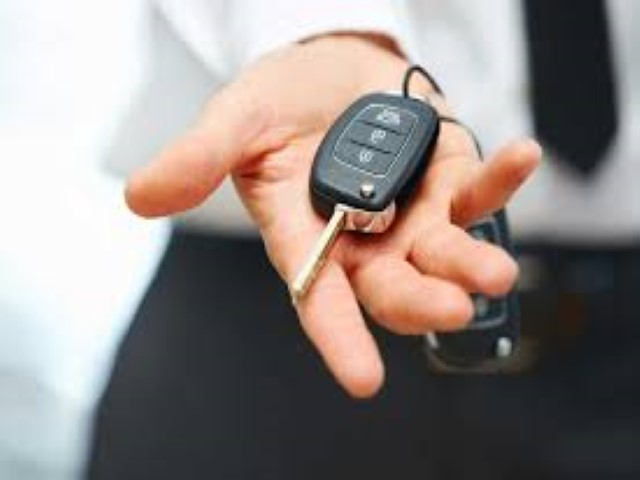key: (294, 92, 436, 436)
